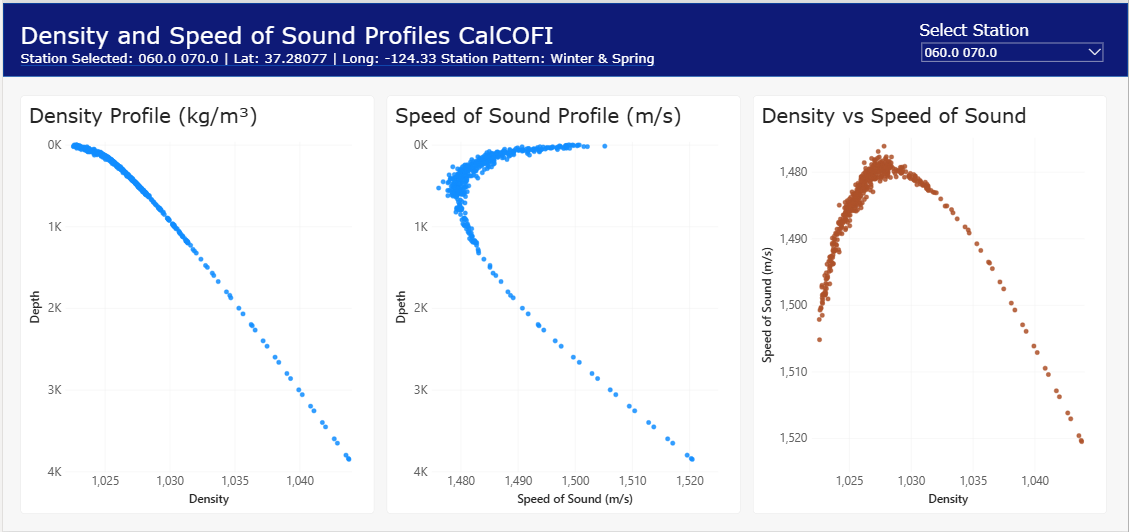

What the dashboard file says about the page in this screenshot:
{"tool":"powerbi","page":{"name":"Speed of Sound & Density","canvas":[2300,1080],"ordinal":1},"visuals":[{"type":"shape","box":[0,0,2300,150.4],"z":0},{"type":"scatterChart","title":"Density Profile (kg/m³)","fields":{"Category":["FactTempSal.Depthm"],"Y":["Avg(FactTempSal.Depthm)"],"X":["_Measures.Density_approx"]},"box":[36.3,189.2,723,855.5],"z":1000},{"type":"textbox","box":[36.3,36.3,1451.8,106.3],"z":2000},{"type":"textbox","box":[36.8,95.8,1769.9,57.1],"z":3000},{"type":"scatterChart","title":"Density vs Speed of Sound","fields":{"Category":["FactTempSal.Depthm"],"X":["_Measures.Density_approx"],"Y":["_Measures.Speed of Sound (m/s)"]},"box":[1532.1,189.2,723.3,855.5],"z":4000},{"type":"scatterChart","title":"Speed of Sound Profile (m/s)","fields":{"Category":["FactTempSal.Depthm"],"Y":["Avg(FactTempSal.Depthm)"],"X":["_Measures.Speed of Sound (m/s)"]},"box":[784.1,189.2,723.3,855.5],"z":5000},{"type":"slicer","title":"Select Station","fields":{"Values":["DimStation.StationKey"]},"box":[1874.4,36.3,381.1,116.7],"z":6000}]}

Visuals, with their boxes in screenshot pixels (x1, y1, x2, y2), scaled from the page's 2300x1080 canvas onto the 1131x532 screenshot:
shape: 0 0 1130 74
"Density Profile (kg/m³)" scatterChart: 18 93 373 515
textbox: 18 18 732 70
textbox: 18 47 888 75
"Density vs Speed of Sound" scatterChart: 753 93 1109 515
"Speed of Sound Profile (m/s)" scatterChart: 386 93 741 515
"Select Station" slicer: 922 18 1109 75
